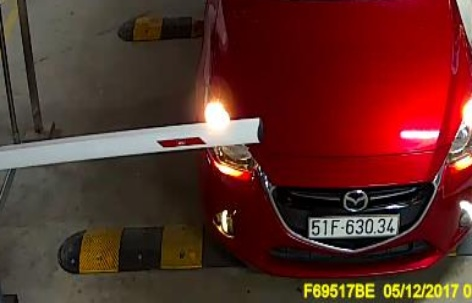plate: (304, 203, 400, 245)
